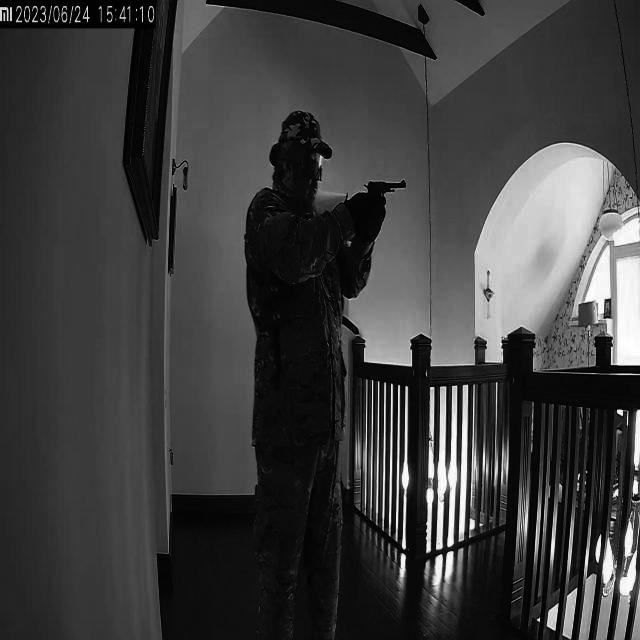gun: (364, 175, 409, 208)
person with a gun: (245, 107, 413, 632)
